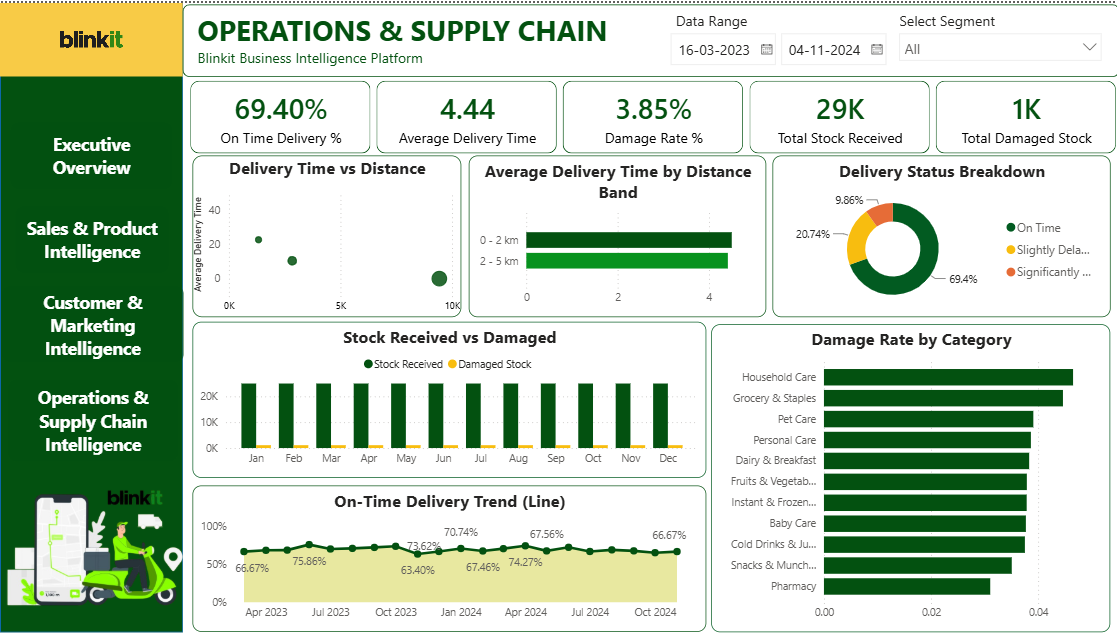

This screenshot's page, from the dashboard's own definition file:
{"tool":"powerbi","page":{"name":"Operations & Supply Chain Intelligence","canvas":[1280,720],"ordinal":3},"visuals":[{"type":"shape","box":[0,0,209.1,719.5],"z":0},{"type":"image","box":[0,0,208.8,83.8],"z":1000},{"type":"shape","box":[208.8,1.2,1071.2,83.2],"z":2000},{"type":"cardVisual","fields":{"Data":["Measuress.On Time %","Measuress.Average Delivery Time","Measuress.Damage %","Measuress.Total Stock Recieved","Measuress.Total Damaged Stock"]},"box":[214,85.6,1066.3,89.3],"z":3000},{"type":"actionButton","box":[11.2,136.2,186.2,77.5],"z":4000},{"type":"image","box":[1.2,525,208.8,195],"z":5000},{"type":"textbox","box":[226.2,4.9,573.5,74.6],"z":6000},{"type":"textbox","box":[767.2,3.8,108.8,37.5],"z":7000},{"type":"textbox","box":[1022.2,3.8,186.2,37.5],"z":8000},{"type":"slicer","fields":{"Values":["public customers.customer_segment"]},"box":[1022.2,30,241.2,45],"z":9000},{"type":"slicer","fields":{"Values":["public orders.order_date"]},"box":[758.5,30,263.8,50],"z":10000},{"type":"scatterChart","title":"Delivery Time vs Distance","fields":{"X":["Sum(public delivery_performance.distance_km)"],"Size":["CountNonNull(public delivery_performance.order_id)"],"Category":["public delivery_performance.delivery_status"],"Y":["Measuress.Average Delivery Time"]},"box":[220.1,174.9,306.9,184.6],"z":11000},{"type":"clusteredBarChart","title":"Average Delivery Time by Distance Band","fields":{"Category":["public delivery_performance.Distance Band"],"Y":["Measuress.Average Delivery Time"]},"box":[535.6,174.9,339.9,184.6],"z":12000},{"type":"areaChart","title":"On-Time Delivery Trend (Line)","fields":{"Category":["public customer_feedback.feedback_date.Variation.Date Hierarchy.Year","public customer_feedback.feedback_date.Variation.Date Hierarchy.Month"],"Y":["Measuress.On Time %"]},"box":[220.1,551.5,587,167.5],"z":13000},{"type":"actionButton","box":[17.5,231.2,176.2,77.5],"z":14000},{"type":"actionButton","box":[1.2,322.8,209.1,88],"z":15000},{"type":"donutChart","title":"Delivery Status Breakdown","fields":{"Category":["public delivery_performance.delivery_status"],"Y":["CountNonNull(public delivery_performance.order_id)"]},"box":[882.9,174.9,386.4,184.6],"z":16000},{"type":"clusteredColumnChart","title":"Stock Received vs Damaged","fields":{"Category":["public orders.Month Name"],"Y":["Sum(public inventory.stock_received)","Sum(public inventory.damaged_stock)"]},"box":[220.1,364.4,587,178.5],"z":17000},{"type":"clusteredBarChart","title":"Damage Rate by Category ","fields":{"Category":["public products.category"],"Y":["Measuress.Damage Rate by Category"]},"box":[813.2,366.8,456.1,352.2],"z":18000},{"type":"actionButton","box":[8.6,430.4,195.7,94.2],"z":19000}]}

Visuals, with their boxes in screenshot pixels (x1, y1, x2, y2), scaled from the page's 1280x720 canvas onto the 1117x633 screenshot:
shape: x1=0 y1=0 x2=182 y2=632
image: x1=0 y1=0 x2=182 y2=74
shape: x1=182 y1=1 x2=1116 y2=74
cardVisual - Measuress.On Time % x Measuress.Average Delivery Time: x1=187 y1=75 x2=1116 y2=154
actionButton: x1=10 y1=120 x2=172 y2=188
image: x1=1 y1=462 x2=183 y2=632
textbox: x1=197 y1=4 x2=698 y2=70
textbox: x1=670 y1=3 x2=764 y2=36
textbox: x1=892 y1=3 x2=1055 y2=36
slicer - public customers.customer_segment: x1=892 y1=26 x2=1103 y2=66
slicer - public orders.order_date: x1=662 y1=26 x2=892 y2=70
"Delivery Time vs Distance" scatterChart: x1=192 y1=154 x2=460 y2=316
"Average Delivery Time by Distance Band" clusteredBarChart: x1=467 y1=154 x2=764 y2=316
"On-Time Delivery Trend (Line)" areaChart: x1=192 y1=485 x2=704 y2=632
actionButton: x1=15 y1=203 x2=169 y2=271
actionButton: x1=1 y1=284 x2=184 y2=361
"Delivery Status Breakdown" donutChart: x1=770 y1=154 x2=1108 y2=316
"Stock Received vs Damaged" clusteredColumnChart: x1=192 y1=320 x2=704 y2=477
"Damage Rate by Category " clusteredBarChart: x1=710 y1=322 x2=1108 y2=632
actionButton: x1=8 y1=378 x2=178 y2=461
